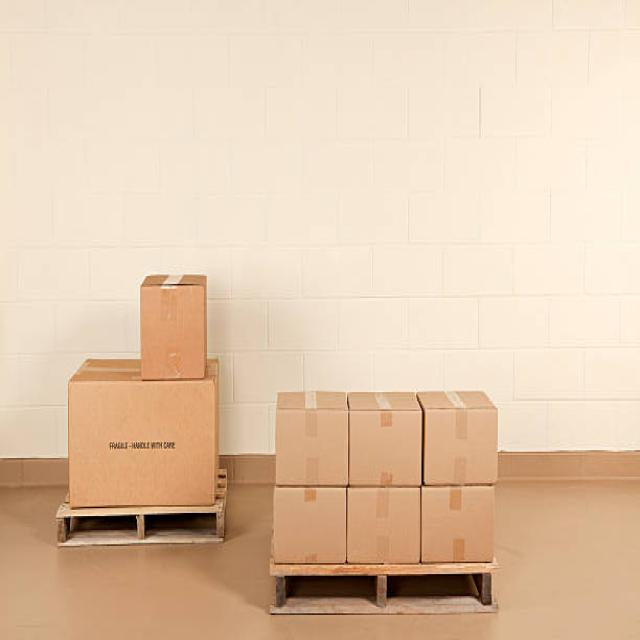Wooden-Pallets: (268, 566, 498, 620), (59, 508, 224, 552)
